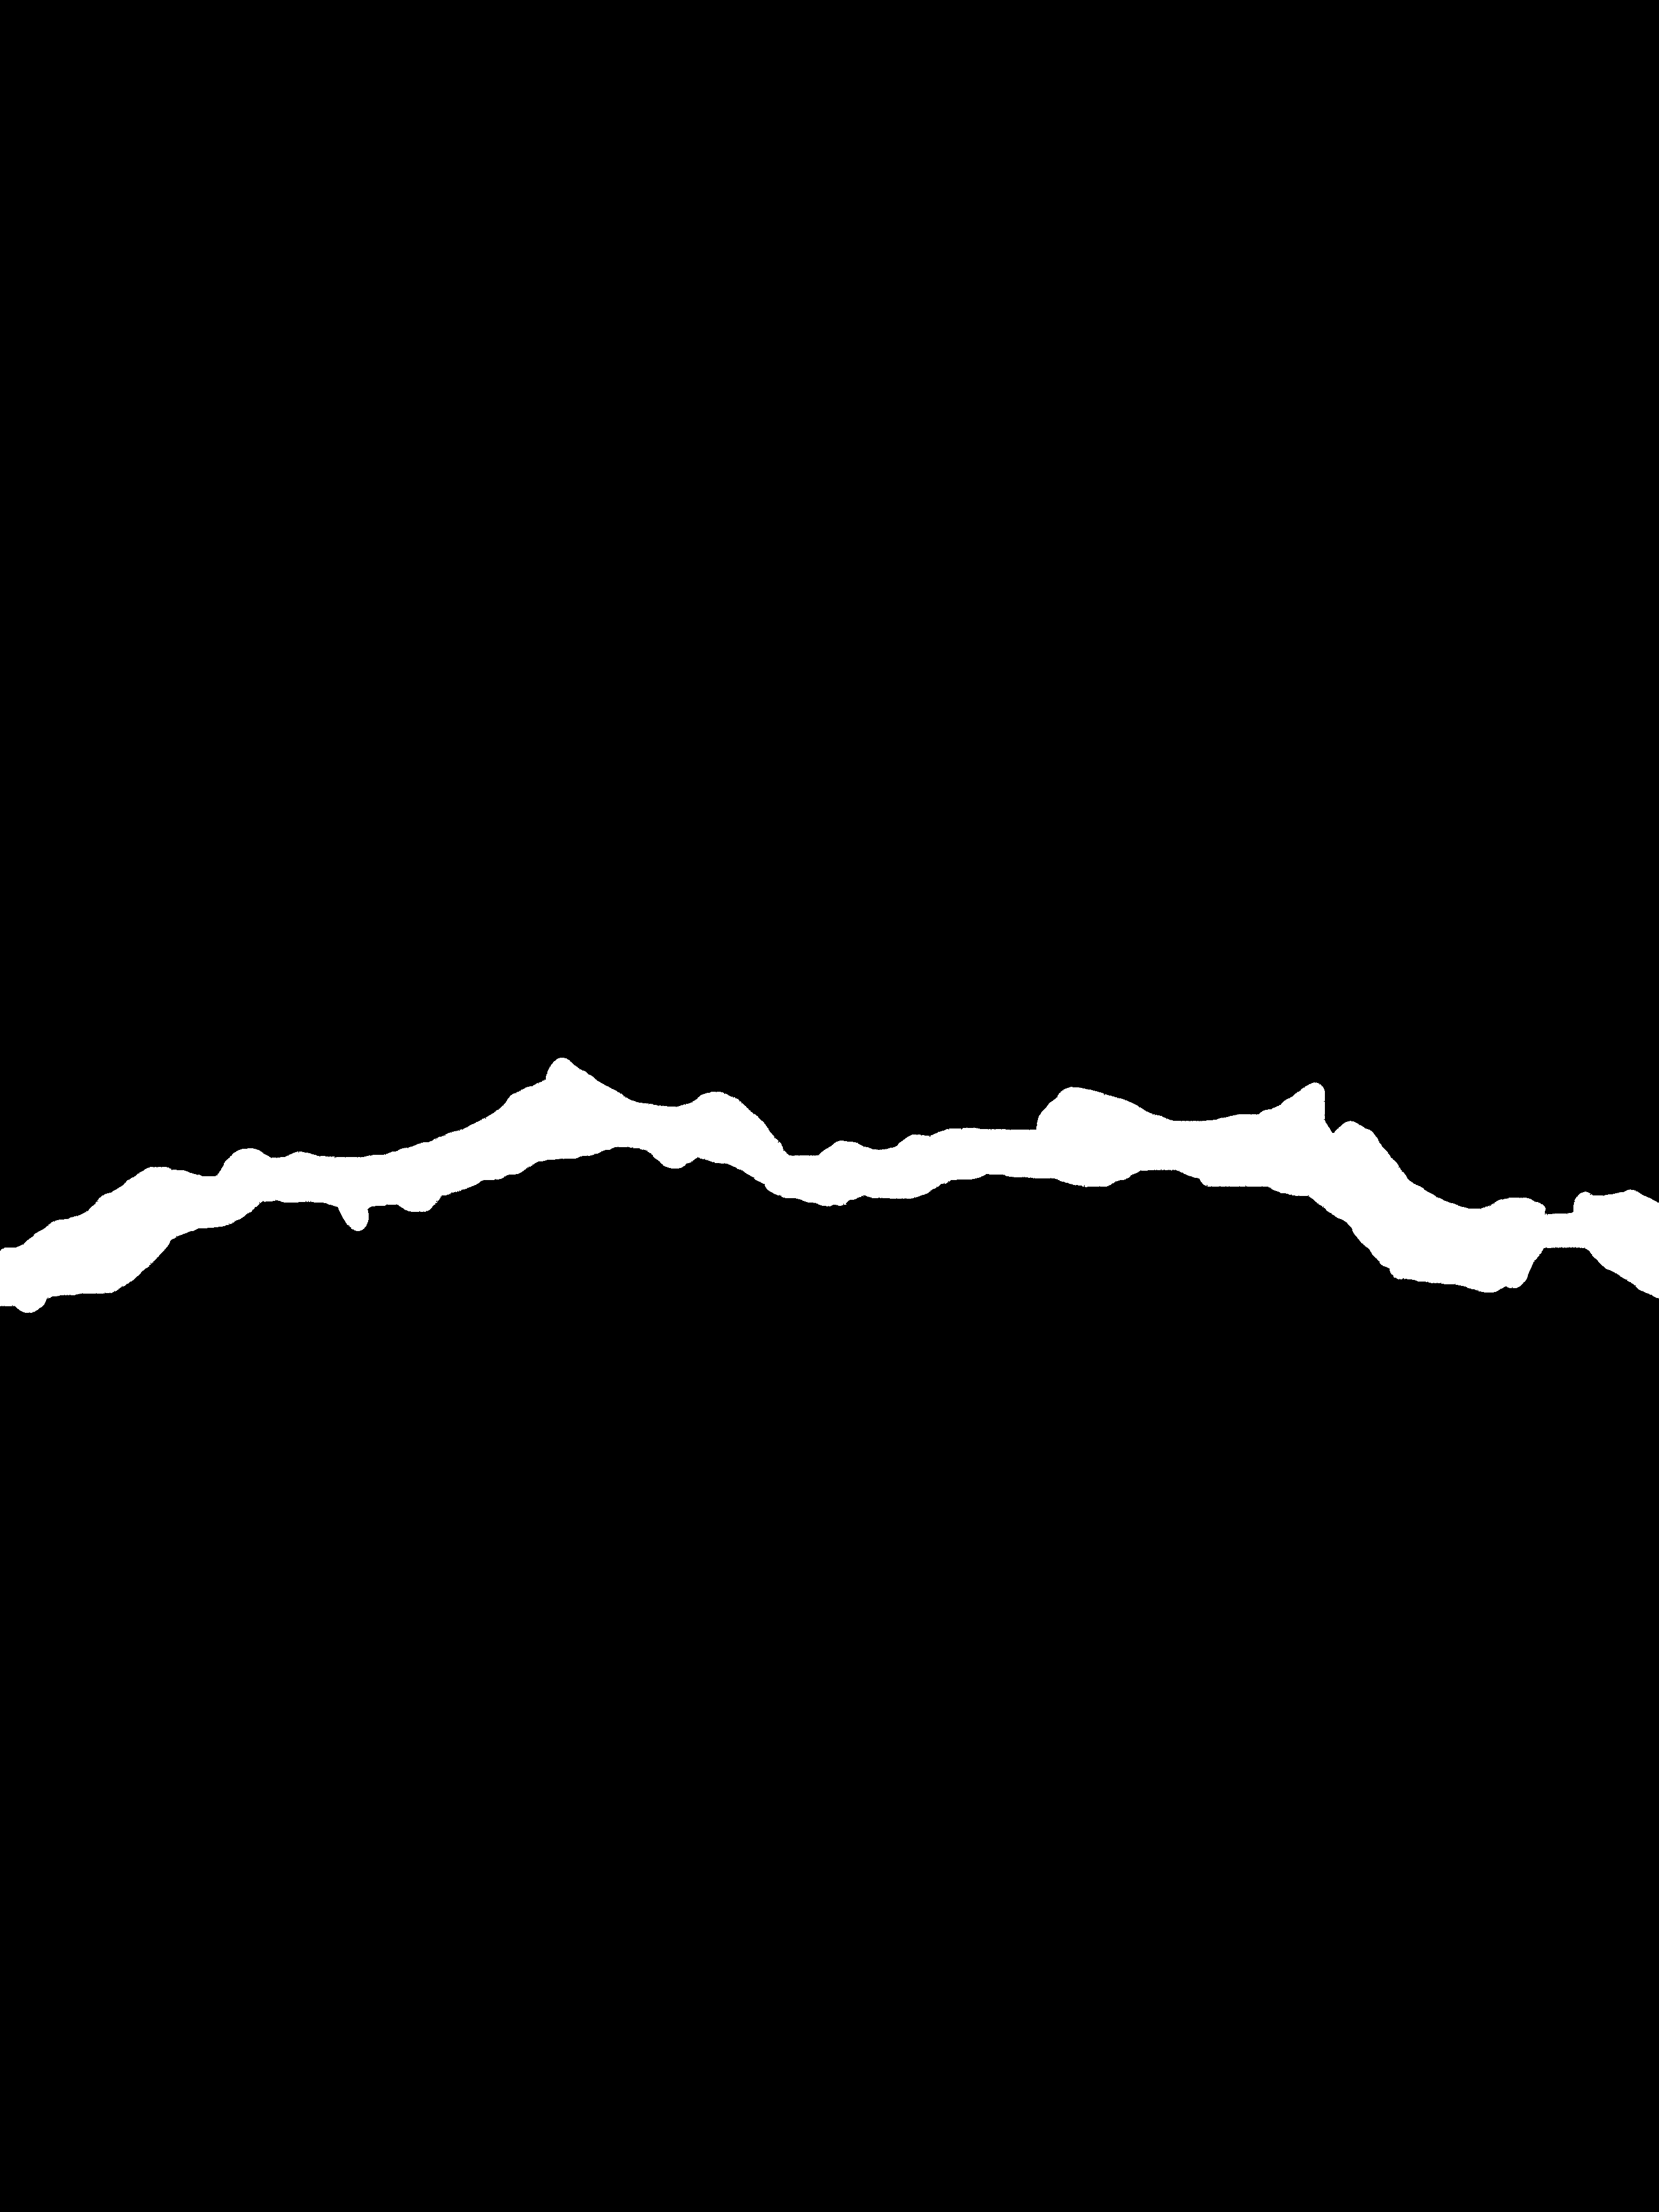Crack: (0, 1042, 1659, 1338)
